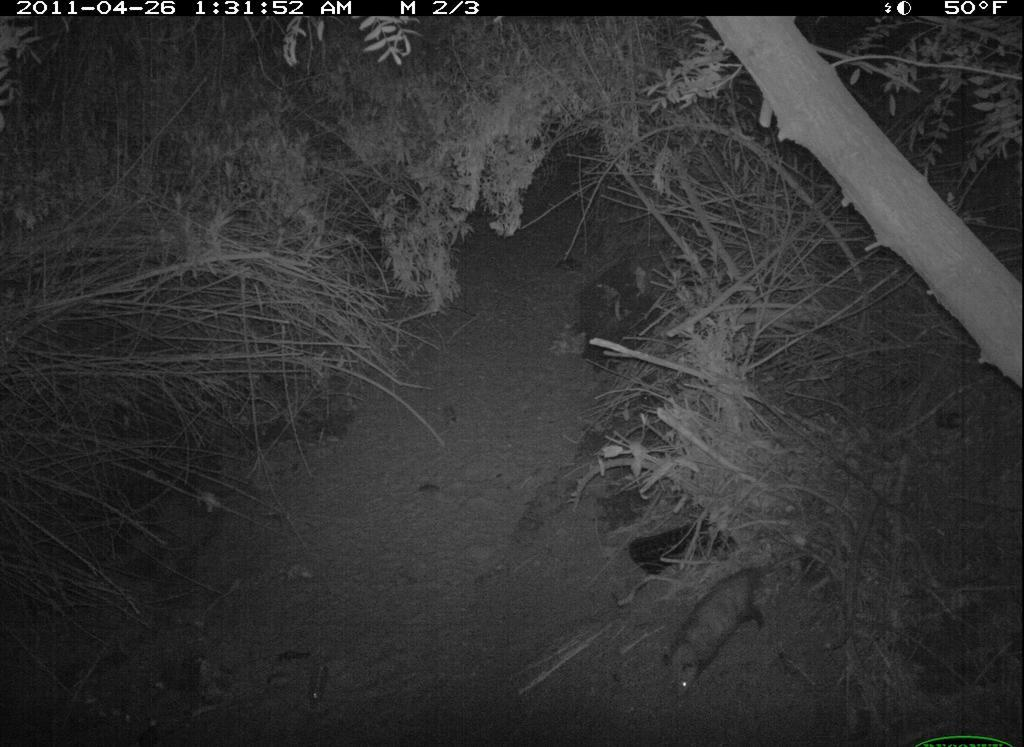opossum: (646, 536, 839, 713)
